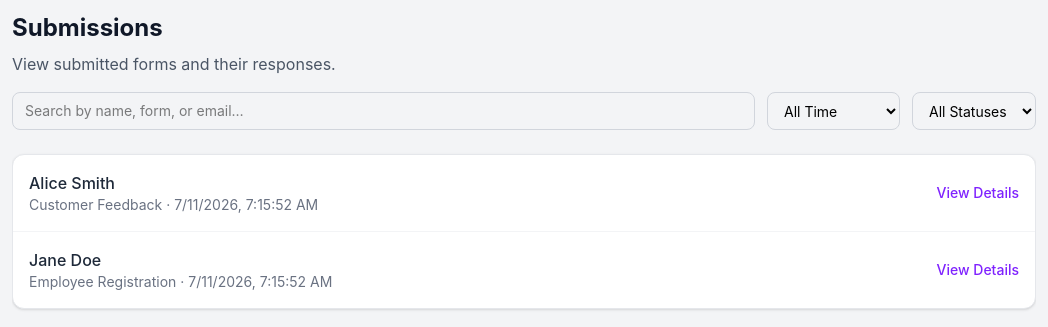
Submissions page › filters the list by search term
Type "jane" into the field with placeholder "Search by name, form, or email…".
click(384, 111); type("jane")  # box x1=12 y1=92 x2=755 y2=130
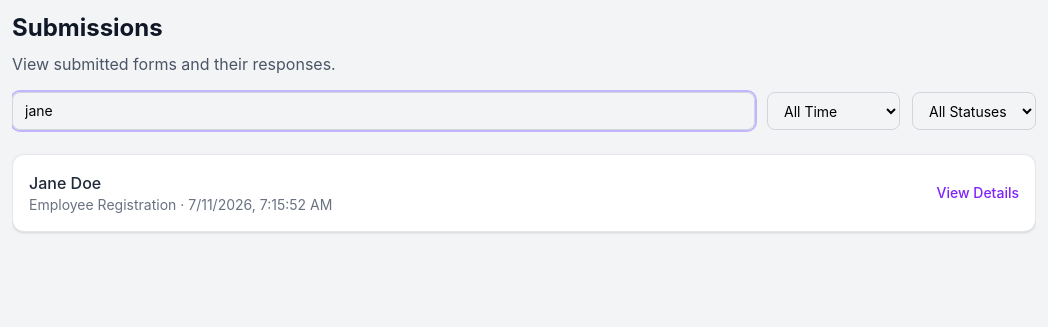
Expected: the text "Jane Doe" is shown, x1=29 y1=171 x2=101 y2=195
Result: the text "Alice Smith" is gone
